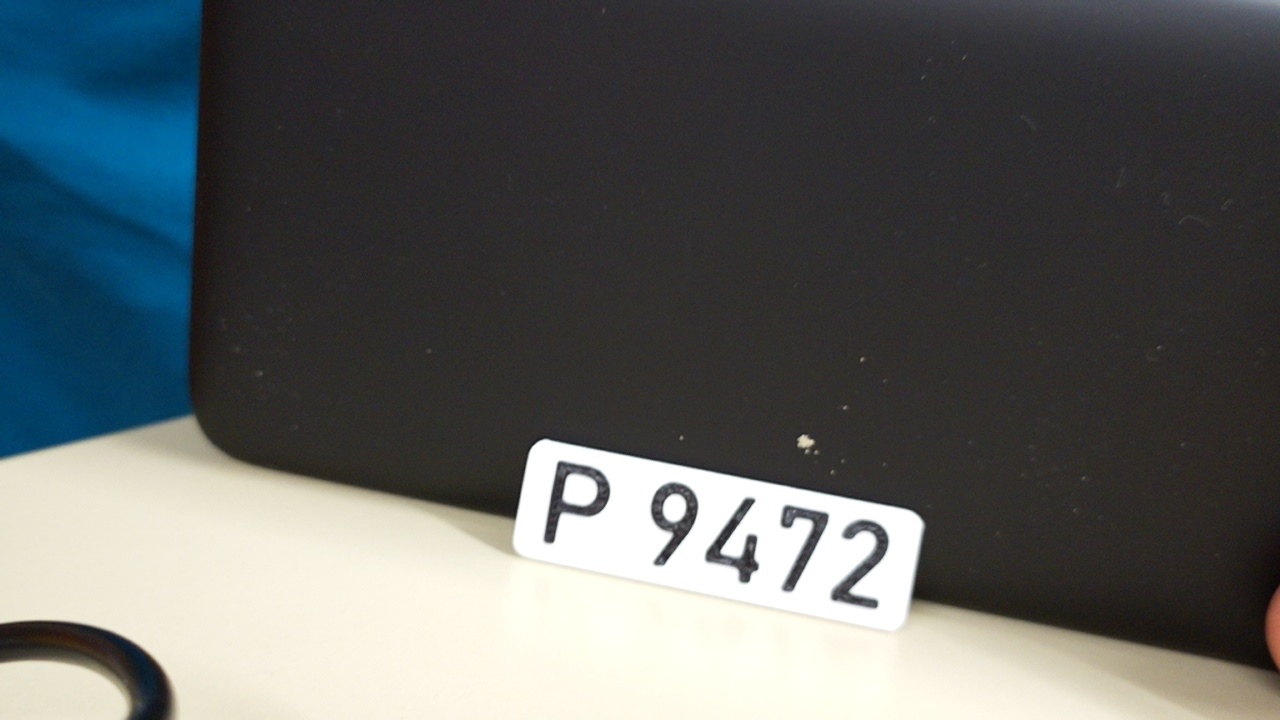license_plate: (509, 435, 927, 634)
